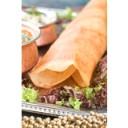dosa: (33, 1, 108, 91)
